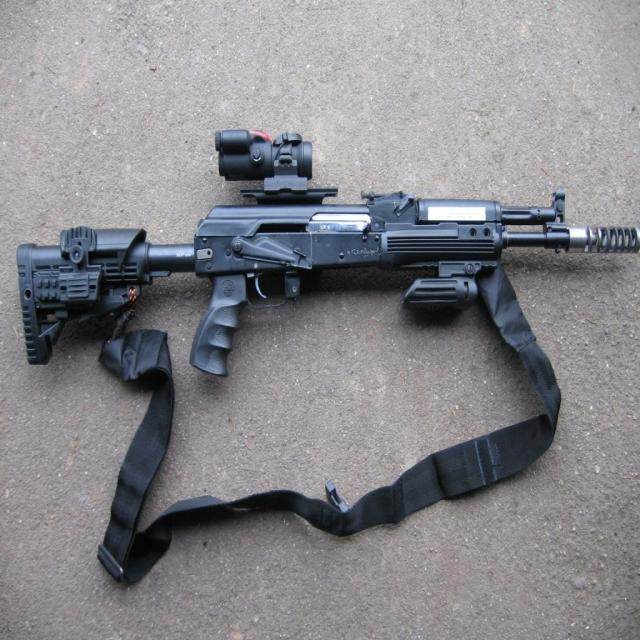firearm: (19, 128, 639, 380)
